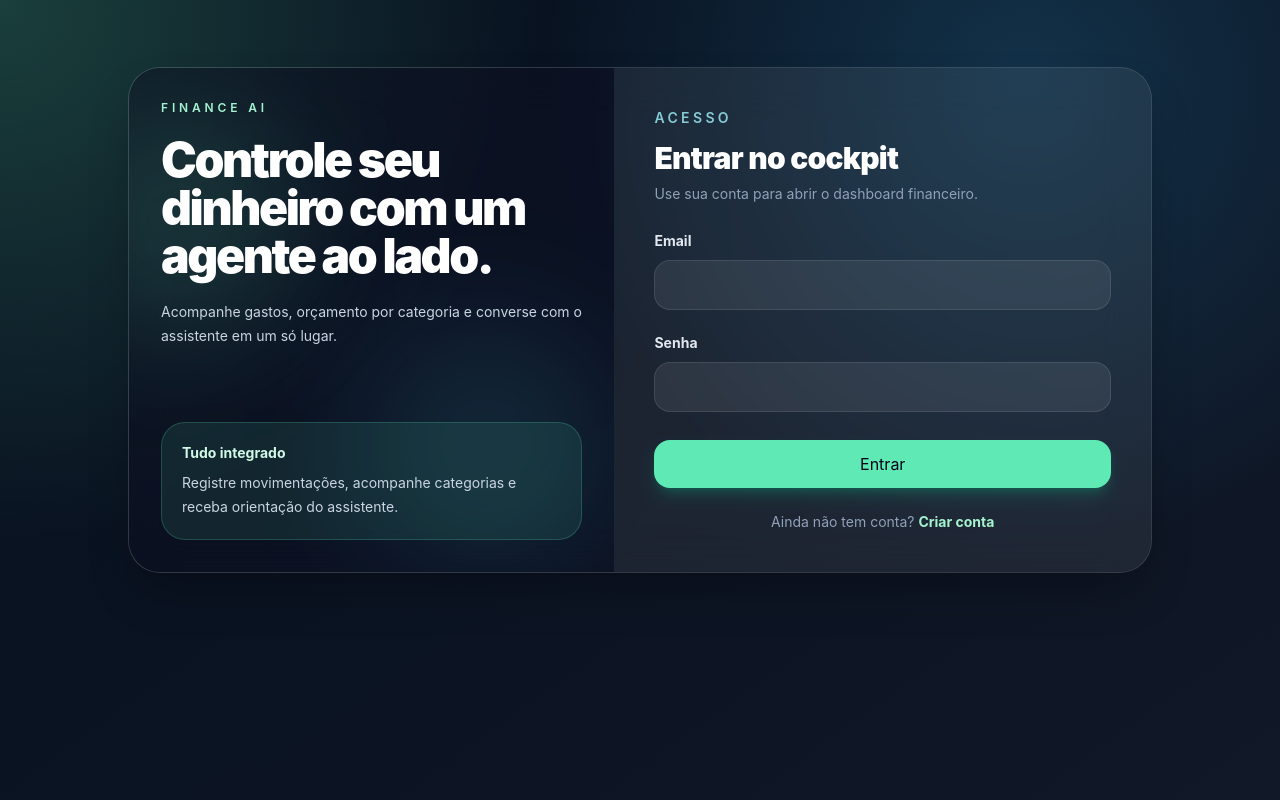
Test: Login › botão fica desabilitado durante o loading
Type "ana@example.com" into the field labelled "Email". click: point(883, 285)
box: top-left (654, 260), bottom-right (1111, 310)
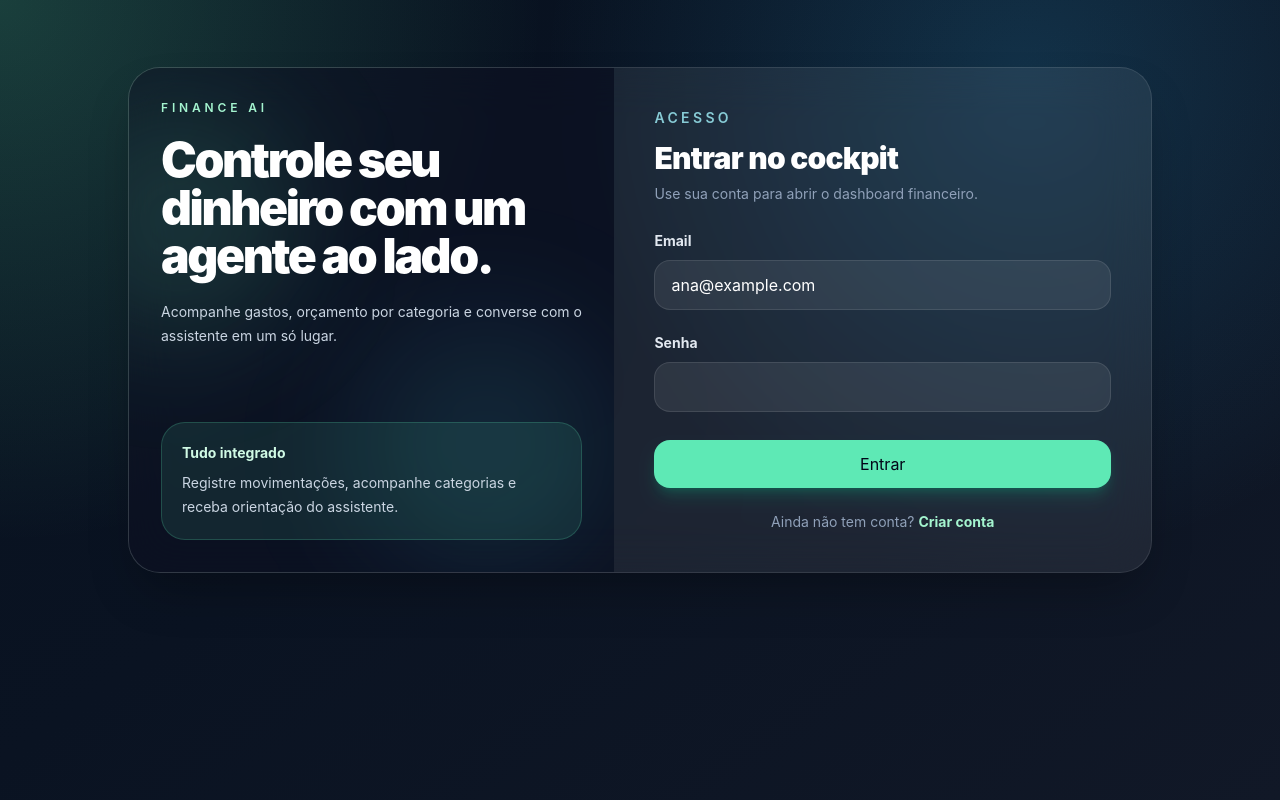
Type "password123" into the password field labelled "Senha". click: point(883, 387)
box: top-left (654, 362), bottom-right (1111, 412)
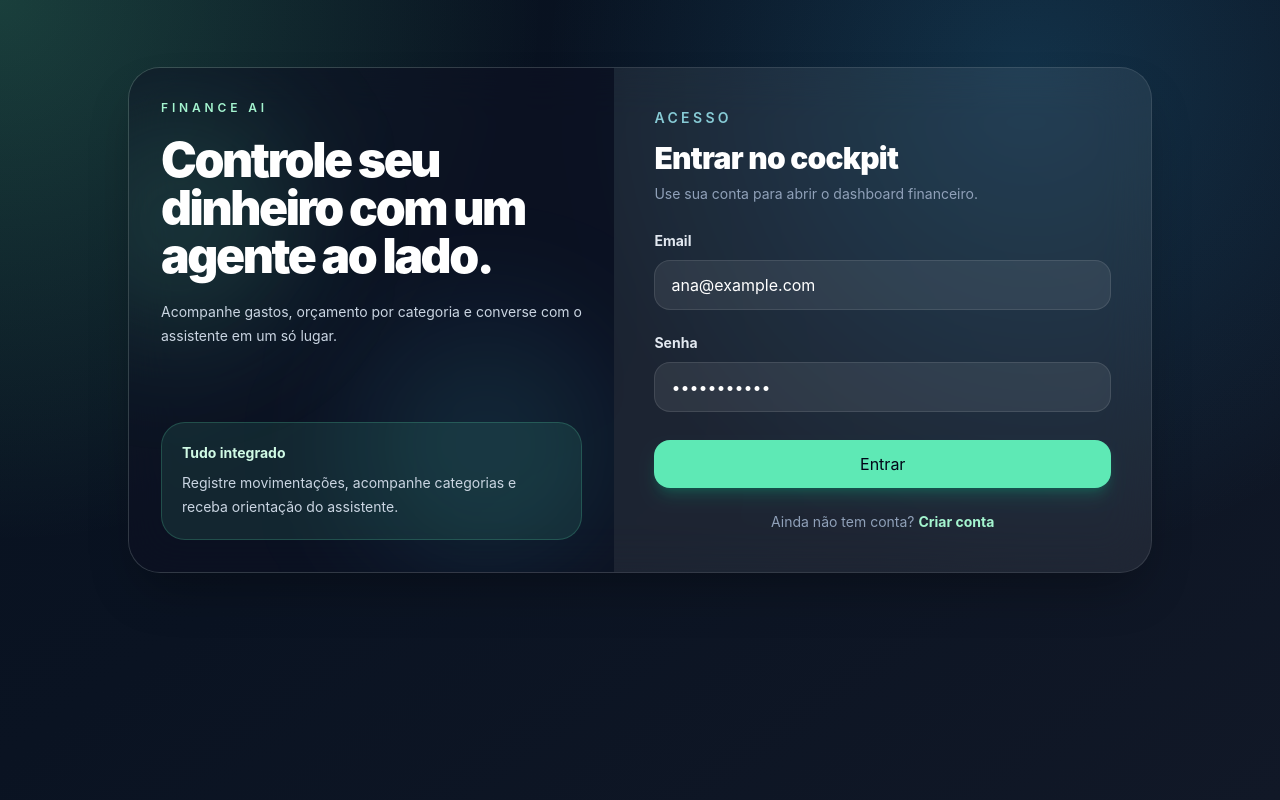
Click the button "Entrar". click: point(883, 464)
box: top-left (654, 440), bottom-right (1111, 488)
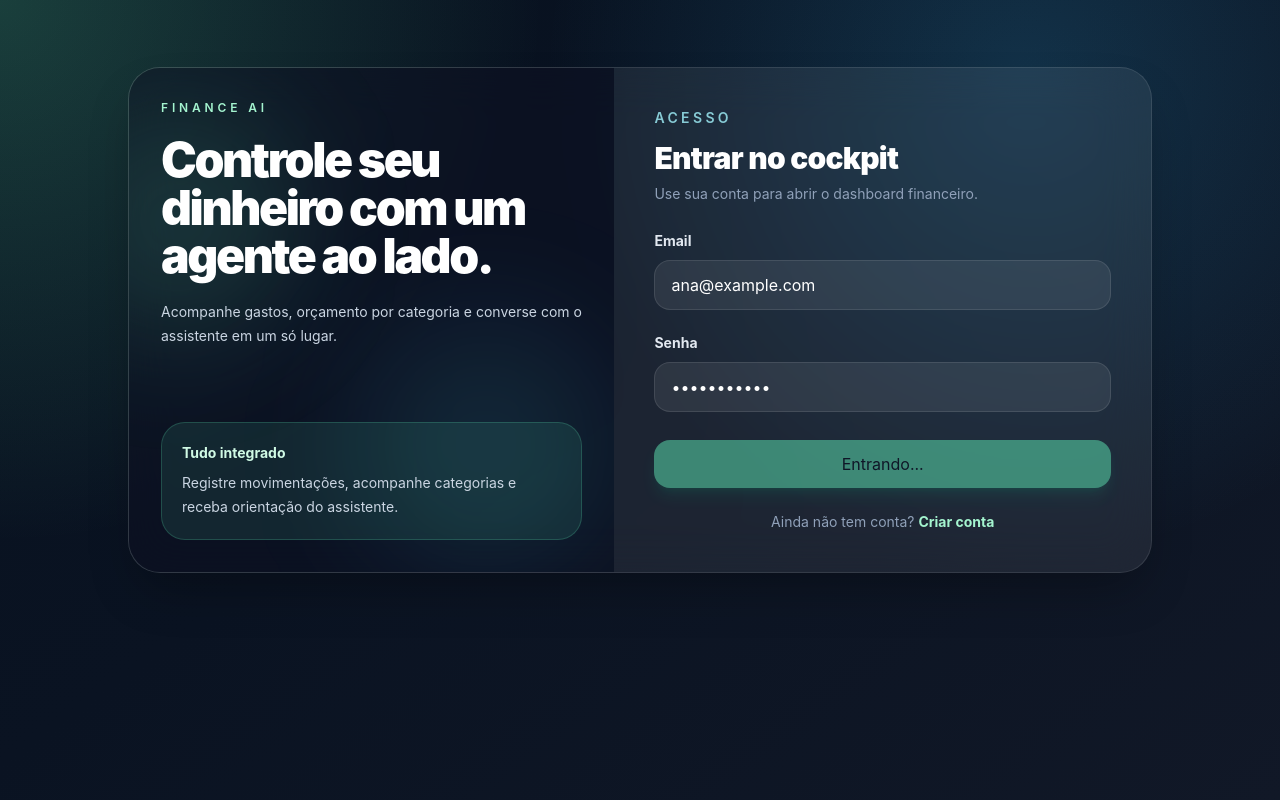
Check: the button is disabled, box top-left (654, 440), bottom-right (1111, 488)
